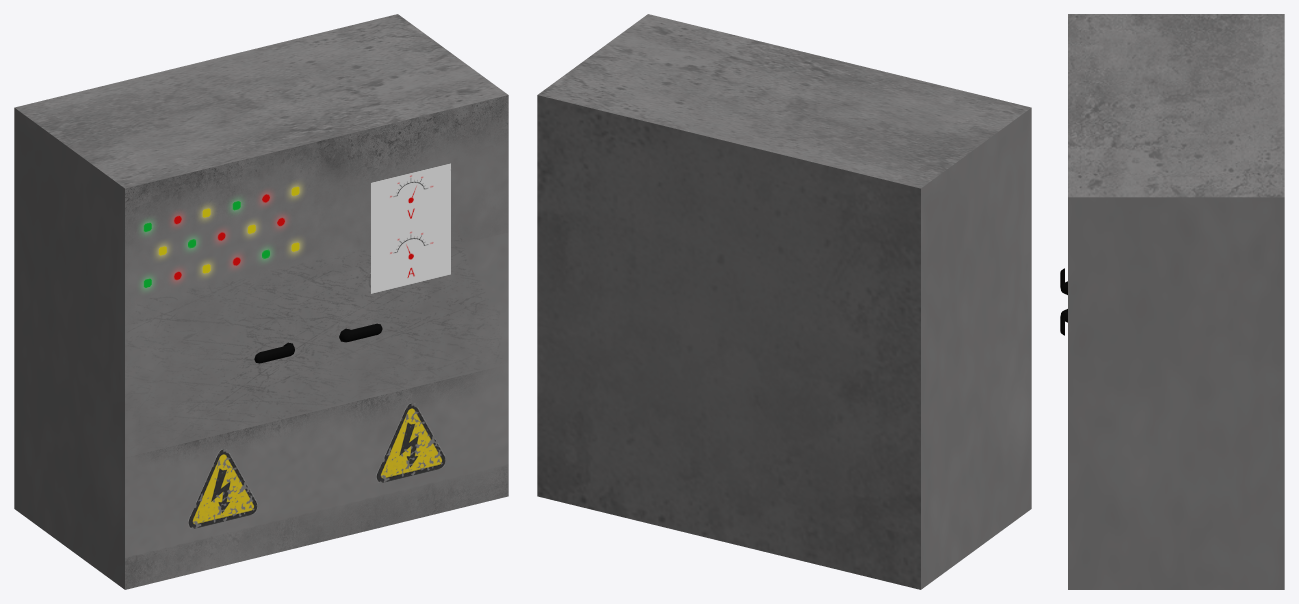
Rendered from cajaGrande.fbx.
3 renders of one model, left to right at view 1: azimuth 30°, elevation 25°; view 2: azimuth 150°, elevation 25°; view 3: azimuth 270°, elevation 25°, orthographic. The views are drawn at different scales.
Visible parts, largest first — view 1: cajaGrandeLow; view 2: cajaGrandeLow; view 3: cajaGrandeLow.
Boxes of the visible parts, x1=… form: cajaGrandeLow: x1=14, y1=14, x2=508, y2=589; cajaGrandeLow: x1=537, y1=14, x2=1031, y2=589; cajaGrandeLow: x1=1068, y1=14, x2=1284, y2=589.
Size of the model in its own units: 200 by 200 by 103.
